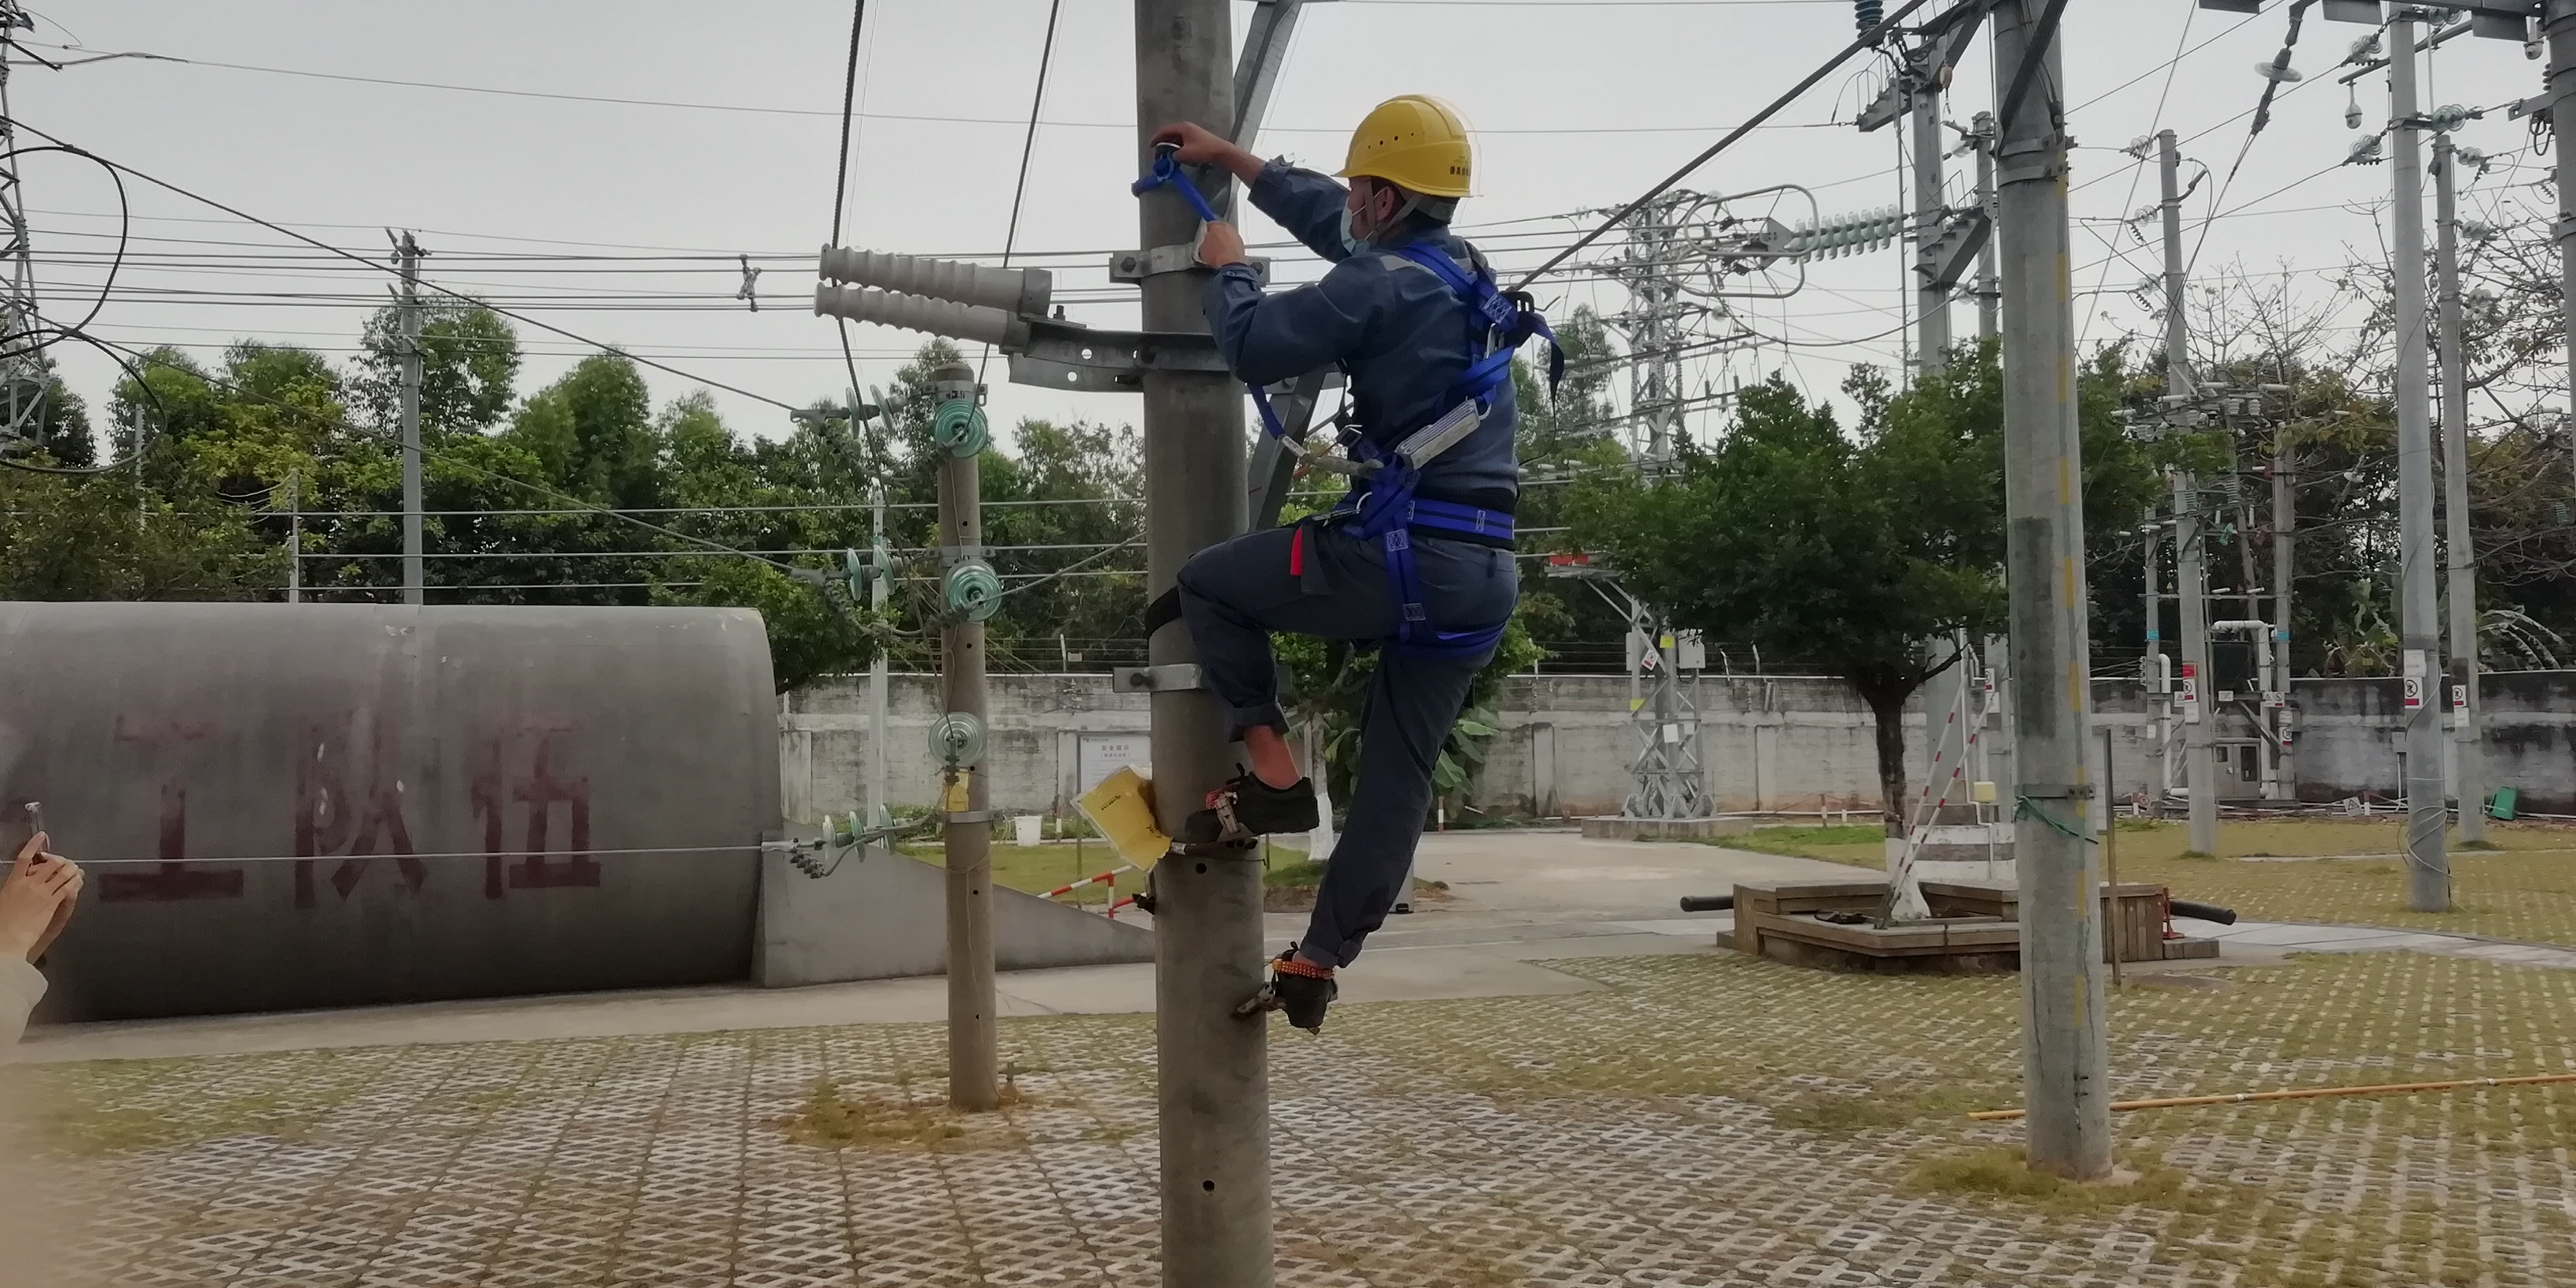downsuit: (1175, 536, 1519, 962)
halt: (1336, 95, 1477, 242)
hand: (1, 832, 94, 958), (1148, 118, 1230, 171), (1199, 220, 1246, 270)
inear: (1355, 177, 1418, 252)
person: (1151, 94, 1531, 1020)
safebelt: (1128, 124, 1557, 670)
upsuit: (1215, 227, 1530, 525)
